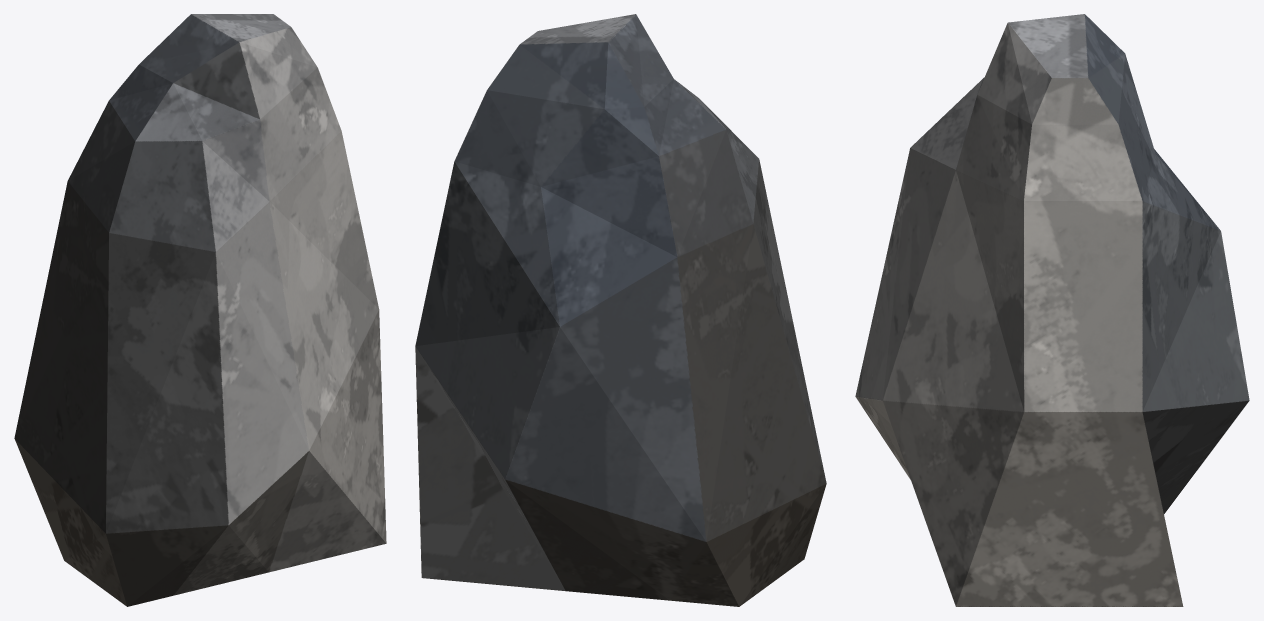
File: RockBig.obj
3 renders of one model, left to right at view 1: azimuth 30°, elevation 25°; view 2: azimuth 150°, elevation 25°; view 3: azimuth 270°, elevation 25°, orthographic. The views are drawn at different scales.
Parts seen in each view (by area): view 1: RockBig; view 2: RockBig; view 3: RockBig.
Boxes of the visible parts, bbox=[...] form: RockBig: bbox=[14, 14, 386, 606]; RockBig: bbox=[415, 14, 826, 606]; RockBig: bbox=[855, 14, 1249, 606].
Size of the model in its own units: 2.81 by 4.51 by 3.06.
